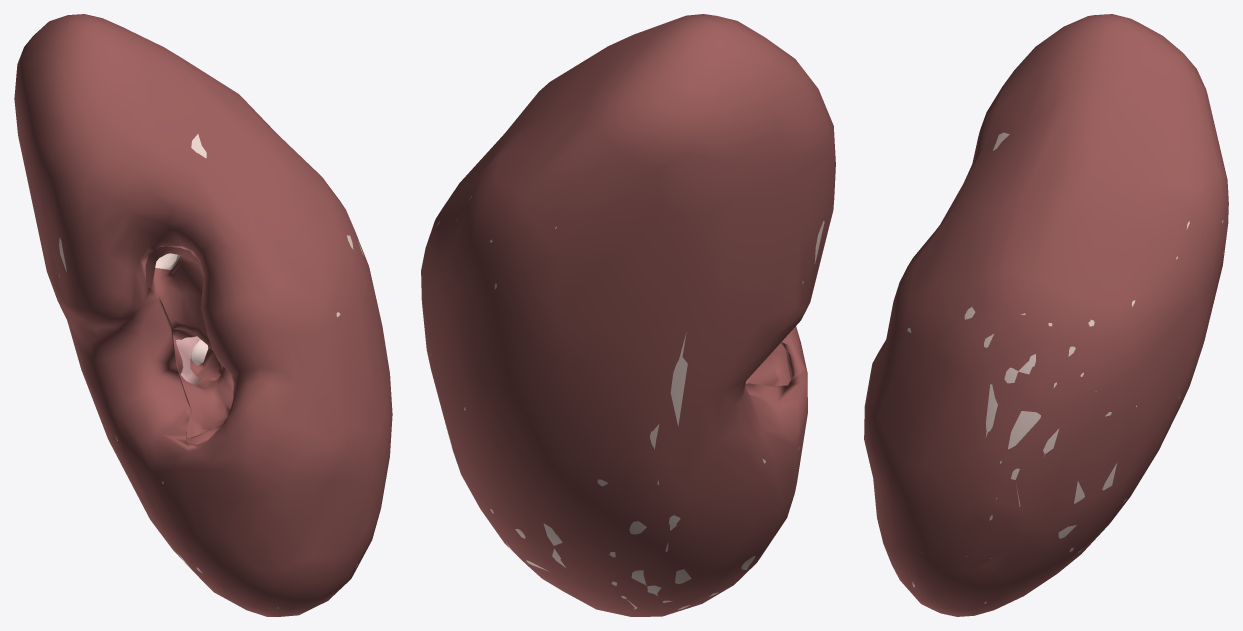
The model's file is vh_f_kidney_l-20.glb.
3 views of the same model, side by side, from view 1: azimuth 30°, elevation 25°; view 2: azimuth 150°, elevation 25°; view 3: azimuth 270°, elevation 25° (orthographic). The views are drawn at different scales.
Visible parts, largest first — view 1: VH_F_kidney_capsule_L, VH_F_hilum_of_kidney_L, VH_F_renal_pyramid_L_g, VH_F_renal_column_L; view 2: VH_F_kidney_capsule_L, VH_F_outer_cortex_of_kidney_L, VH_F_hilum_of_kidney_L; view 3: VH_F_kidney_capsule_L, VH_F_outer_cortex_of_kidney_L.
Part boxes in pixels (x1,y1,x2,y2): VH_F_kidney_capsule_L: (14,14,392,616); VH_F_hilum_of_kidney_L: (145,213,233,444); VH_F_renal_pyramid_L_g: (176,336,201,385); VH_F_renal_column_L: (155,253,208,365); VH_F_kidney_capsule_L: (421,14,835,616); VH_F_outer_cortex_of_kidney_L: (430,195,824,609); VH_F_hilum_of_kidney_L: (745,343,790,386); VH_F_kidney_capsule_L: (864,14,1228,616); VH_F_outer_cortex_of_kidney_L: (907,132,1224,603).
Bounding box in the file's own units: 0.0731 × 0.125 × 0.0774.
